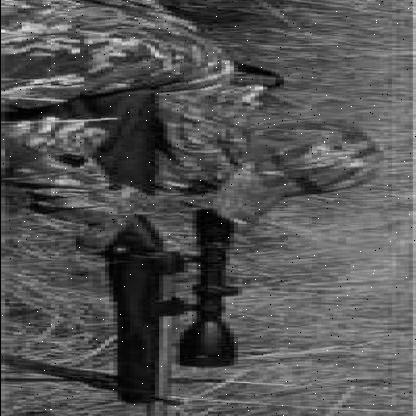rifle: (4, 81, 291, 414)
